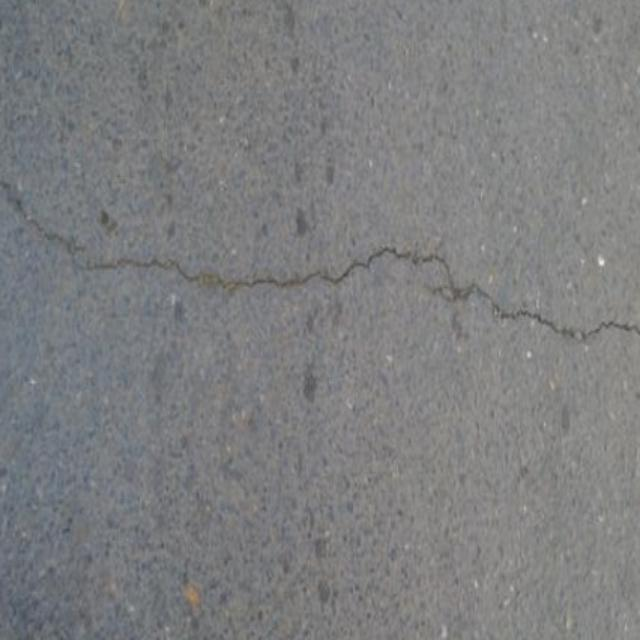Crack: (0, 172, 640, 358)
